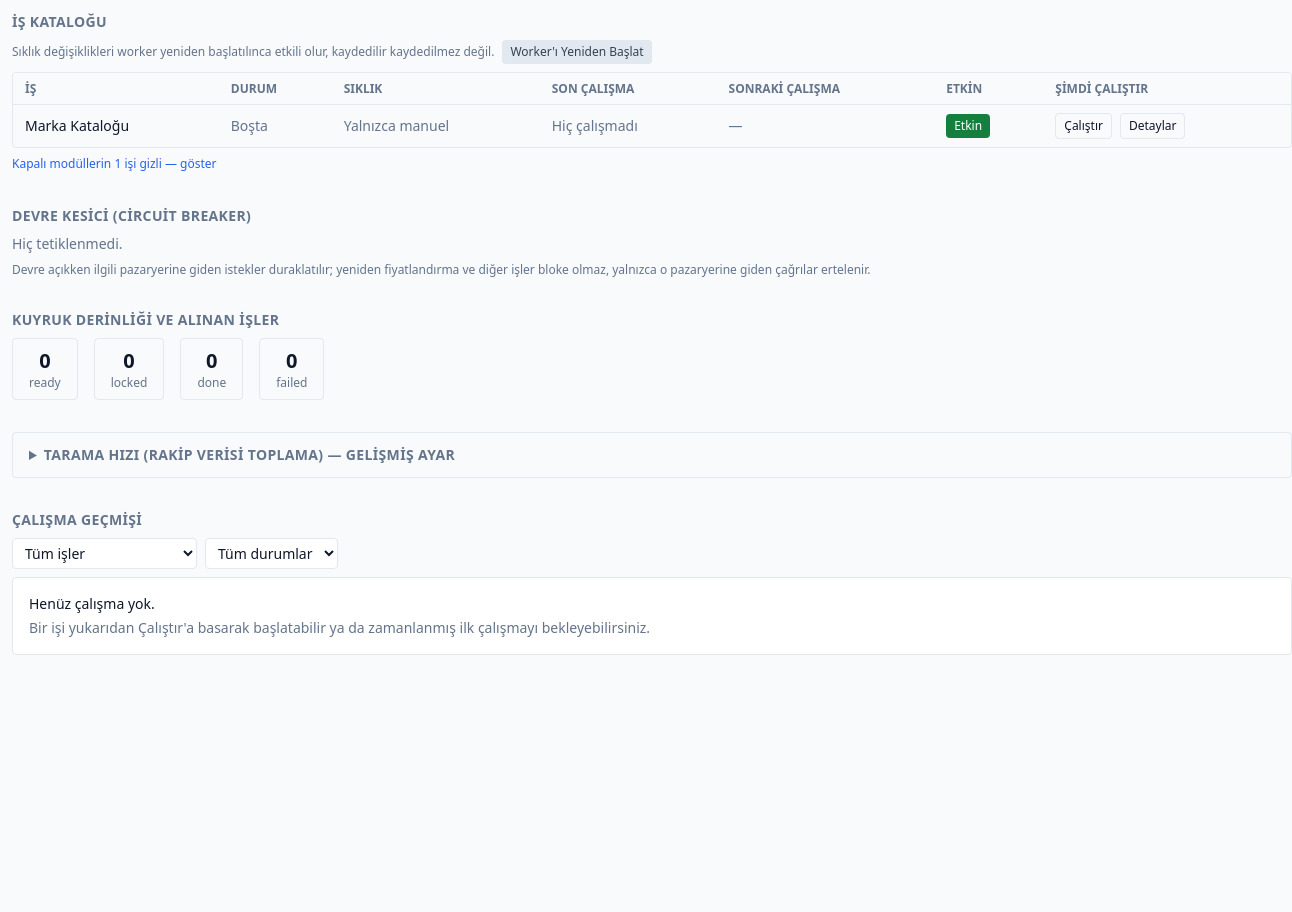
JobsClient › keeps a disabled module’s jobs out of the catalogue until asked
Step 1. Click the button "Kapalı modüllerin 1 işi gizli — göster" → {"x": 114, "y": 164}, box left=12, top=156, right=216, bottom=172
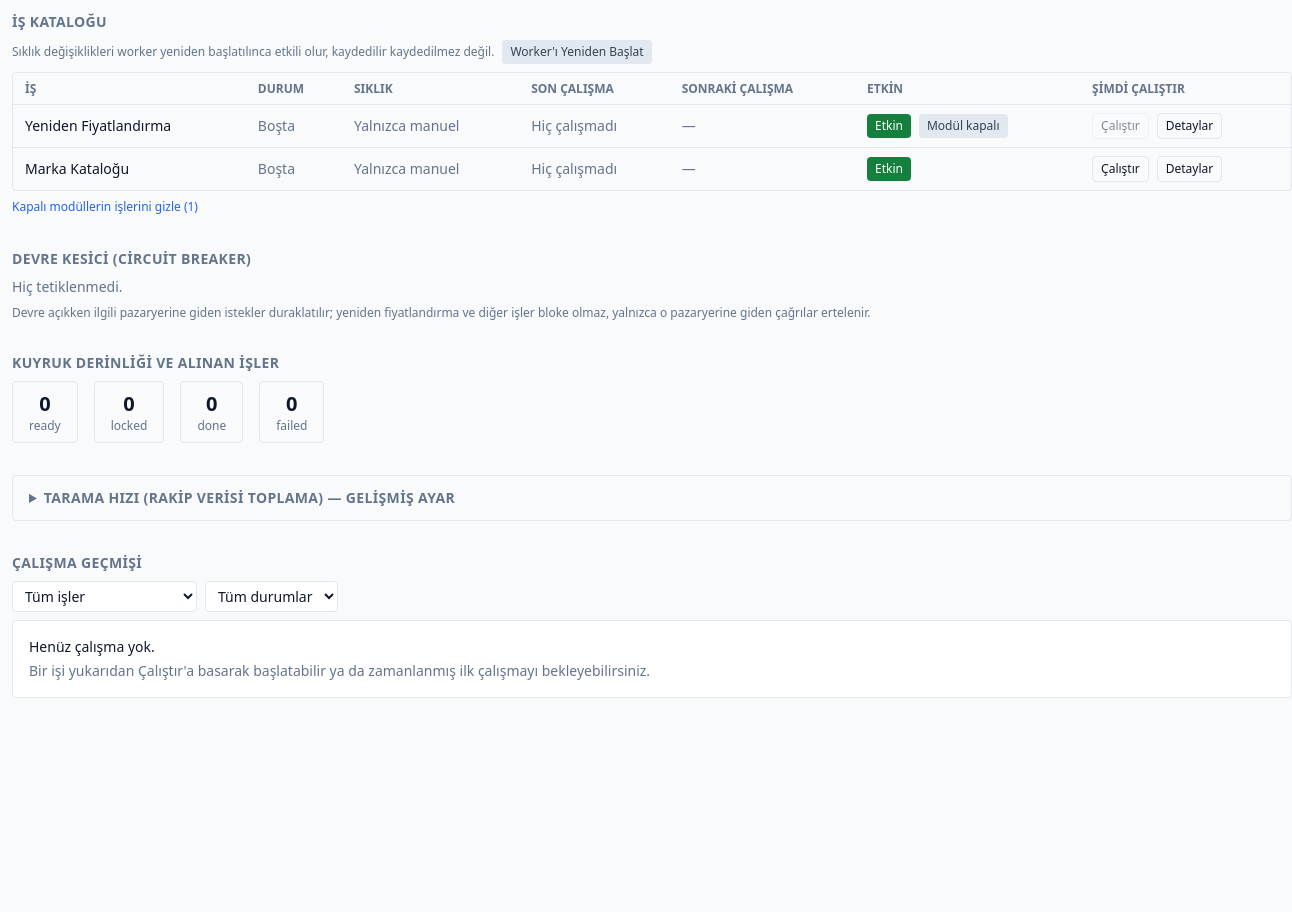
Result: the link "Modül kapalı" is shown at left=919, top=114, right=1008, bottom=138
